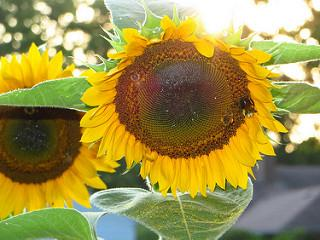sunflower: (83, 20, 287, 191), (0, 50, 115, 222)
